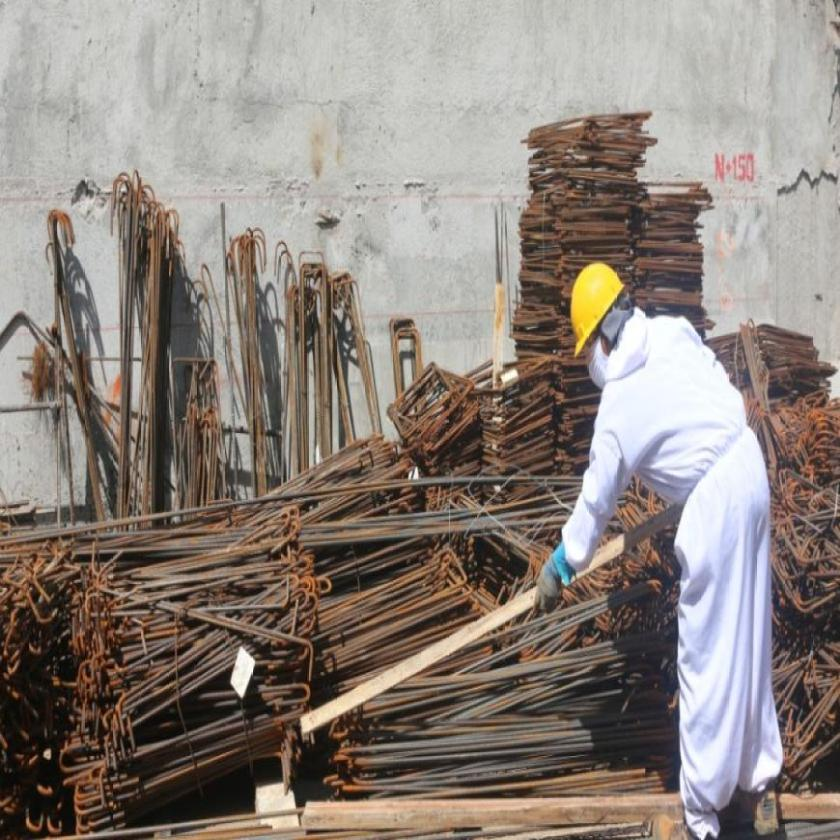Con_casco: (563, 259, 632, 388)
